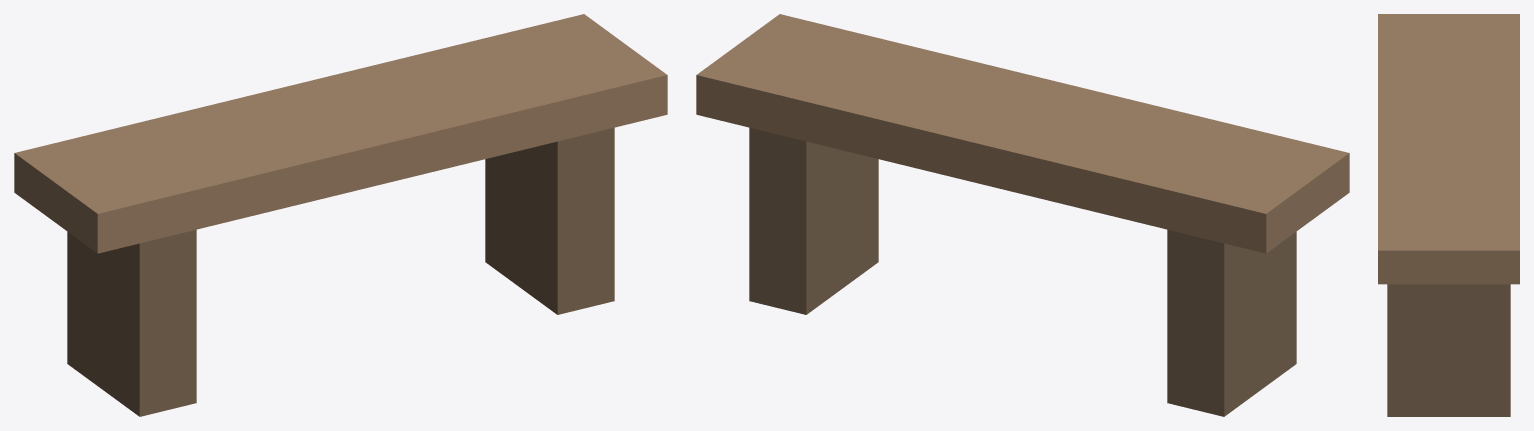
Rendered from bench.glb.
The picture shows the model from 3 angles, left to right: view 1: azimuth 30°, elevation 25°; view 2: azimuth 150°, elevation 25°; view 3: azimuth 270°, elevation 25°; orthographic projection. The views are drawn at different scales.
Visible parts, largest first — view 1: part_0, part_1, part_2; view 2: part_0, part_1, part_2; view 3: part_0, part_2.
Boxes of the visible parts, x1=… form: part_0: x1=14, y1=14, x2=667, y2=253; part_1: x1=67, y1=229, x2=196, y2=416; part_2: x1=485, y1=127, x2=614, y2=314; part_0: x1=696, y1=14, x2=1349, y2=253; part_1: x1=1167, y1=229, x2=1296, y2=416; part_2: x1=749, y1=127, x2=878, y2=314; part_0: x1=1378, y1=14, x2=1519, y2=284; part_2: x1=1387, y1=284, x2=1510, y2=416.
Bounding box in the file's own units: 1.5 × 0.55 × 0.38.
